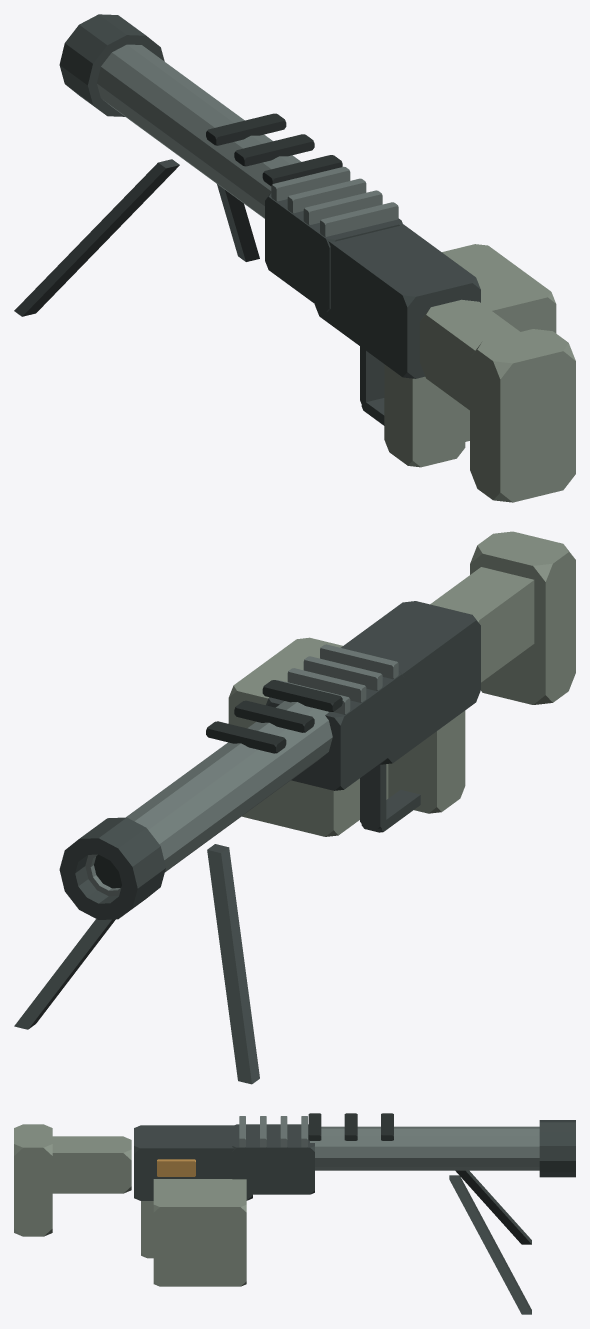
The model's file is weapon_mg.glb.
3 views of the same model, one above another, from view 1: azimuth 30°, elevation 25°; view 2: azimuth 150°, elevation 25°; view 3: azimuth 270°, elevation 25° (orthographic). The views are drawn at different scales.
Visible parts, largest first — view 1: weapon_mg; view 2: weapon_mg; view 3: weapon_mg.
Boxes of the visible parts, x1,y1,x2,y2 form: weapon_mg: (14,14,575,502); weapon_mg: (14,531,575,1084); weapon_mg: (14,1113,575,1314).
Size of the model in its own units: 0.3516 by 0.3305 by 1.09.
